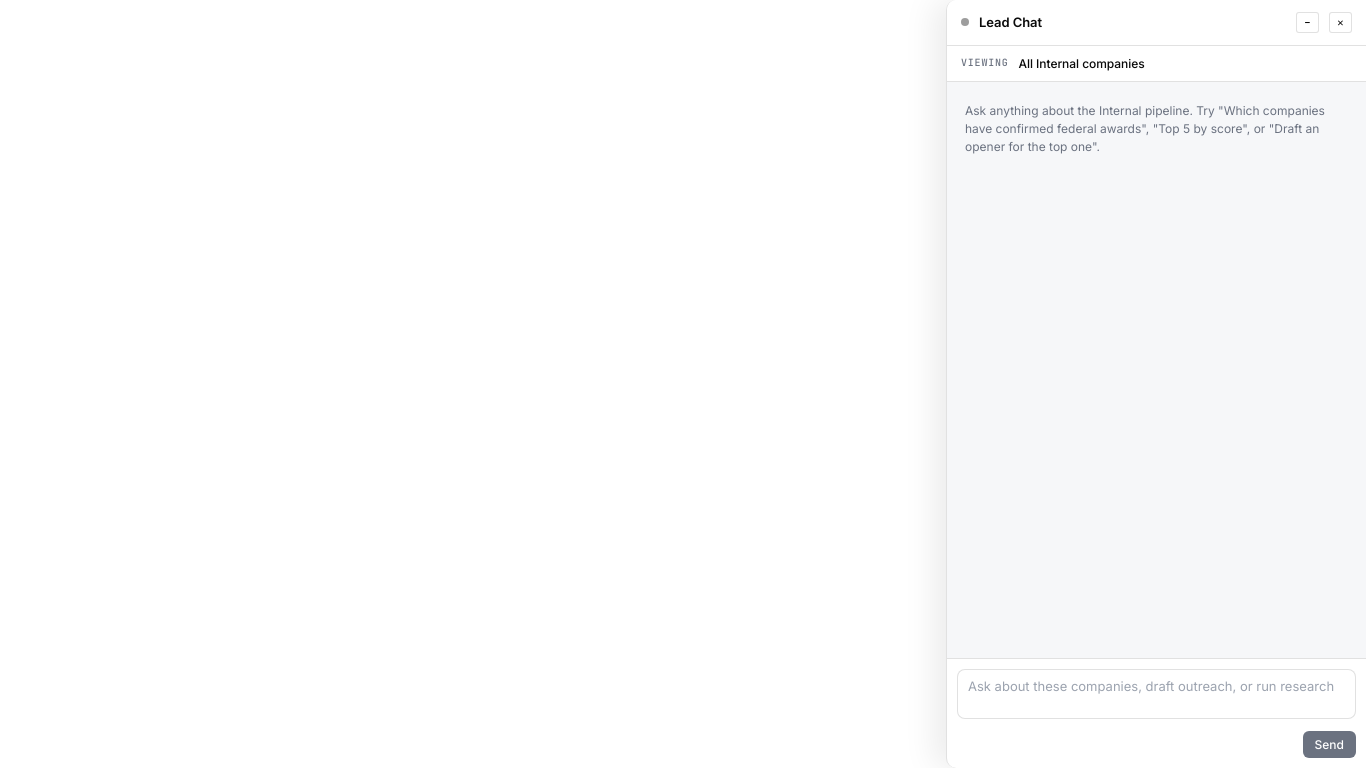
Scenario: LeadChatPanel SSE chips › renders the "Looking up leads" chip on a pathfinder_leads tool_start, clears it on delta
// Type, send.
Type "How many federal awardees?" into the text box with test id "lead-chat-input" at (1156, 694), box [957,669,1356,719]
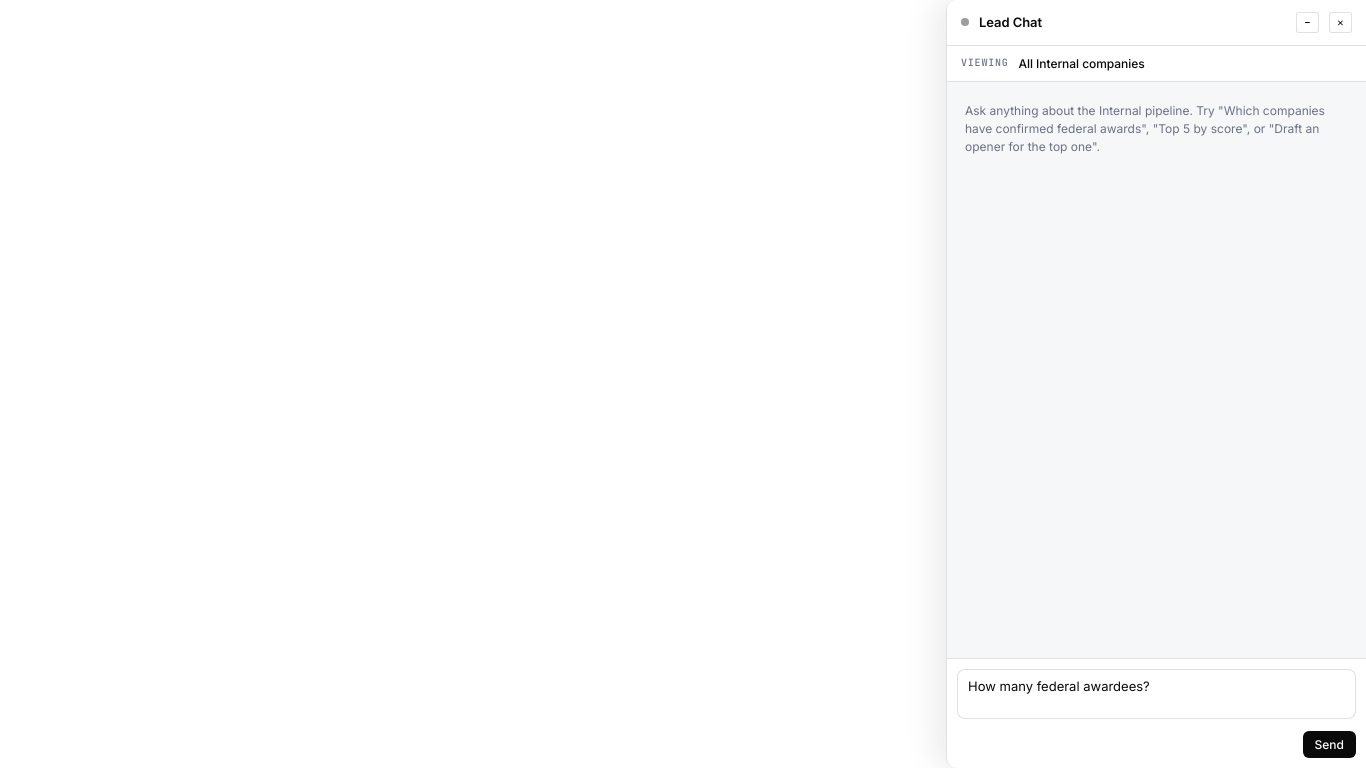
Click the button with test id "lead-chat-send" at (1329, 744), box [1303,731,1356,758]
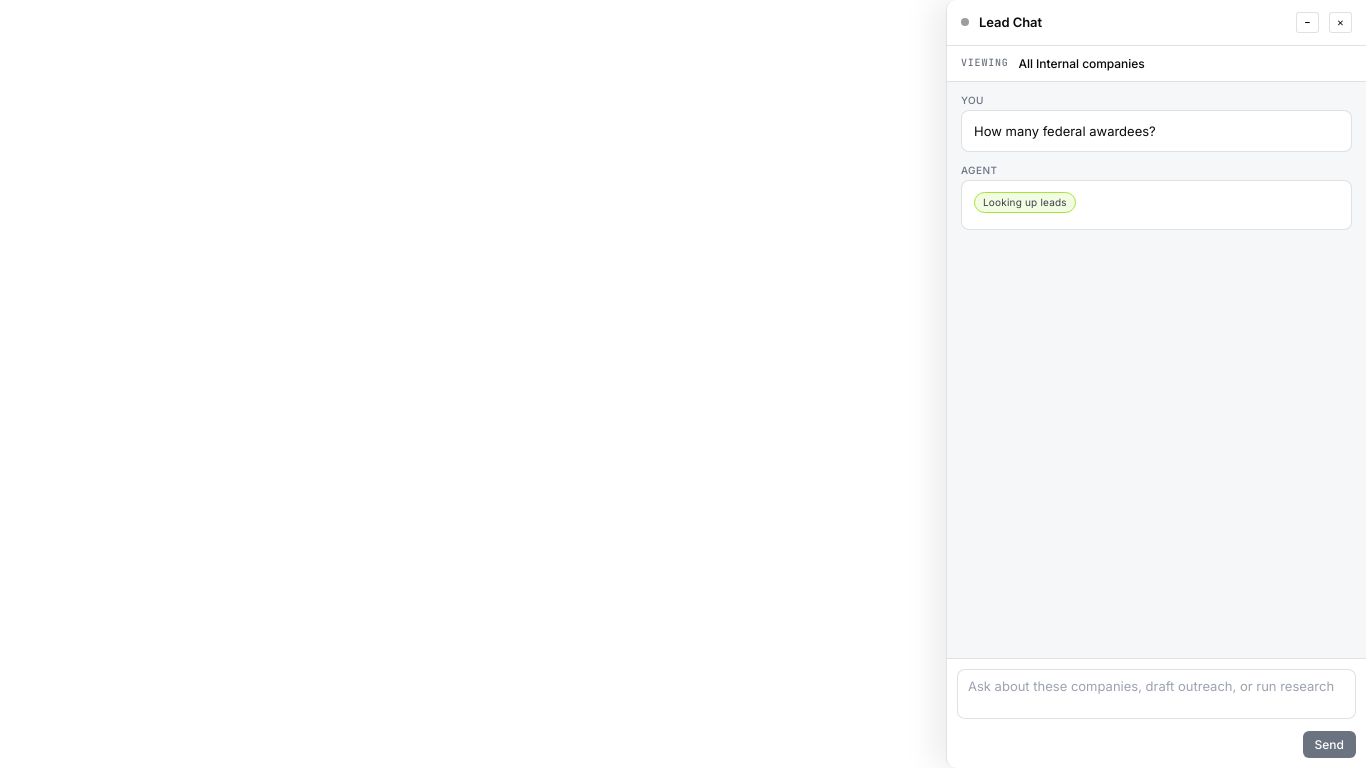
Expected: the text "Looking up leads" is shown, [974,192,1076,213]
